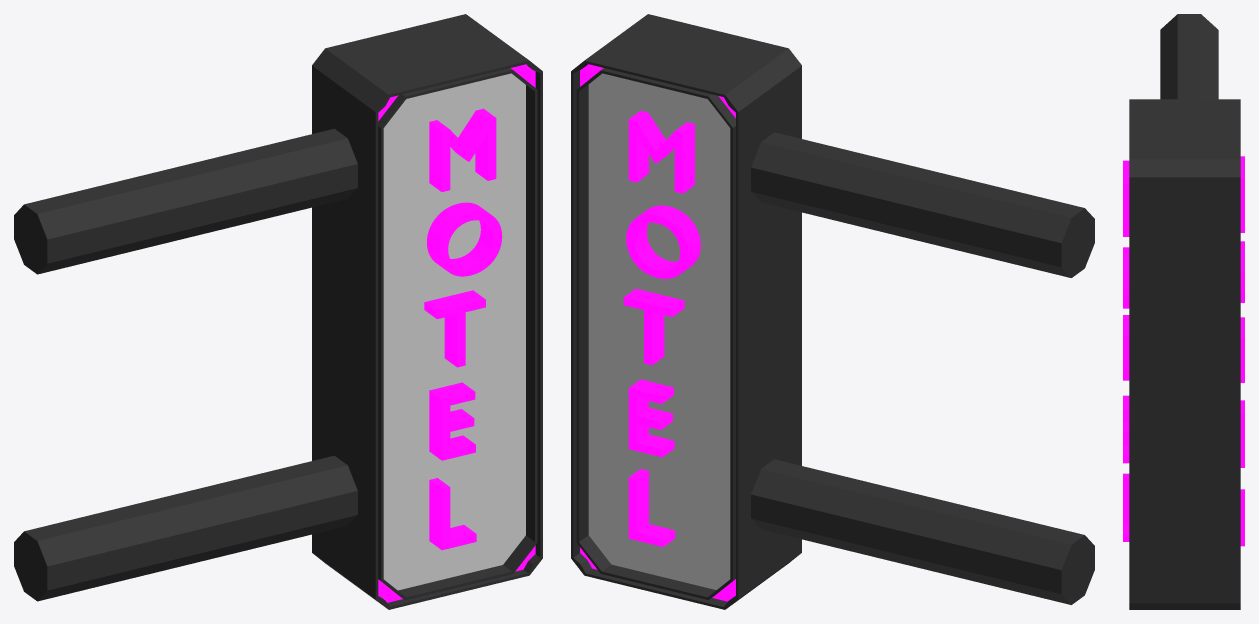
The model's file is StreetSign.fbx.
The picture shows the model from 3 angles, left to right: view 1: azimuth 30°, elevation 25°; view 2: azimuth 150°, elevation 25°; view 3: azimuth 270°, elevation 25°; orthographic projection. The views are drawn at different scales.
Visible parts, largest first — view 1: StreetSign; view 2: StreetSign; view 3: StreetSign.
Part boxes in pixels (x1=…): StreetSign: x1=14, y1=14, x2=542, y2=609; StreetSign: x1=571, y1=14, x2=1094, y2=609; StreetSign: x1=1123, y1=14, x2=1244, y2=609.
Bounding box in the file's own units: 1655 × 1704 × 418.
